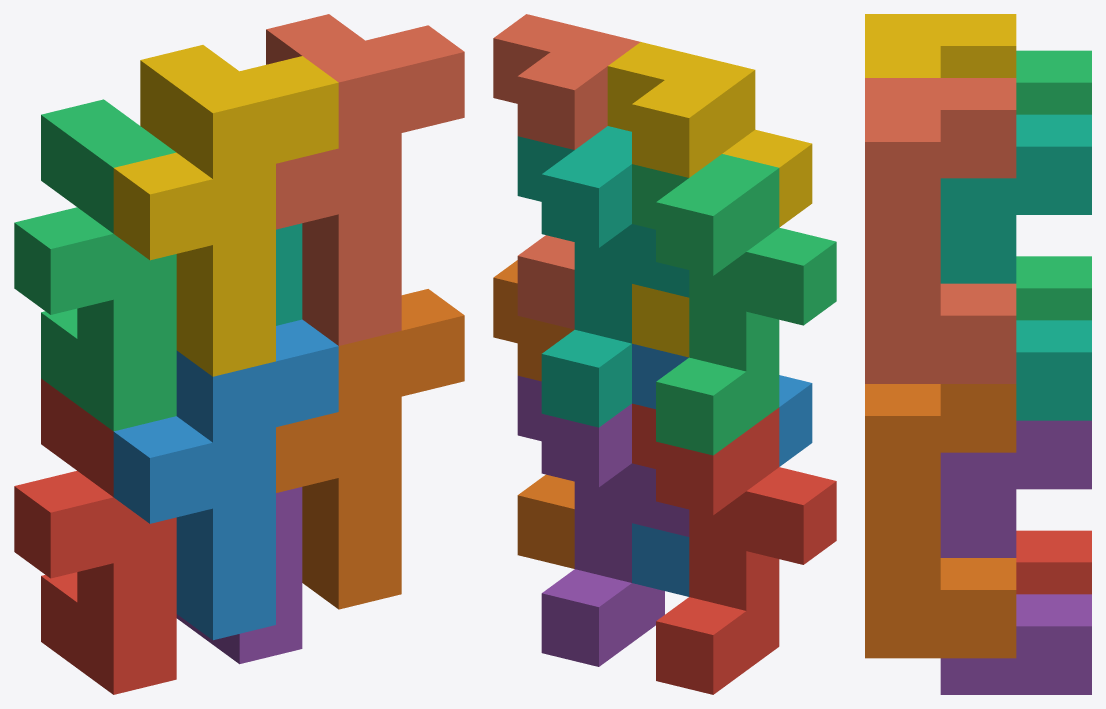
Rendered from tiling.obj.
3 views of the same model, side by side, from view 1: azimuth 30°, elevation 25°; view 2: azimuth 150°, elevation 25°; view 3: azimuth 270°, elevation 25° (orthographic). The views are drawn at different scales.
Parts seen in each view (by area): view 1: copy_1_domain_4, copy_1_domain_2, copy_1_domain_8, copy_1_domain_3, copy_1_domain_1, copy_1_domain_6, copy_1_domain_5, copy_1_domain_7; view 2: copy_1_domain_3, copy_1_domain_1, copy_1_domain_7, copy_1_domain_5, copy_1_domain_4, copy_1_domain_8, copy_1_domain_6, copy_1_domain_2; view 3: copy_1_domain_8, copy_1_domain_6, copy_1_domain_5, copy_1_domain_7, copy_1_domain_3, copy_1_domain_4, copy_1_domain_1.
Boxes of the visible parts, x1=… form: copy_1_domain_4: x1=113, y1=45, x2=338, y2=376; copy_1_domain_2: x1=113, y1=319, x2=338, y2=640; copy_1_domain_8: x1=266, y1=14, x2=464, y2=345; copy_1_domain_3: x1=14, y1=99, x2=176, y2=431; copy_1_domain_1: x1=14, y1=378, x2=176, y2=694; copy_1_domain_6: x1=276, y1=289, x2=464, y2=609; copy_1_domain_5: x1=176, y1=487, x2=302, y2=664; copy_1_domain_7: x1=276, y1=223, x2=302, y2=325; copy_1_domain_3: x1=632, y1=154, x2=836, y2=455; copy_1_domain_1: x1=632, y1=403, x2=836, y2=694; copy_1_domain_7: x1=517, y1=126, x2=689, y2=427; copy_1_domain_5: x1=517, y1=375, x2=689, y2=666; copy_1_domain_4: x1=607, y1=42, x2=812, y2=357; copy_1_domain_8: x1=493, y1=14, x2=640, y2=329; copy_1_domain_6: x1=493, y1=260, x2=574, y2=568; copy_1_domain_2: x1=632, y1=343, x2=812, y2=596; copy_1_domain_8: x1=865, y1=78, x2=1016, y2=383; copy_1_domain_6: x1=865, y1=384, x2=1016, y2=658; copy_1_domain_5: x1=940, y1=420, x2=1091, y2=694; copy_1_domain_7: x1=940, y1=114, x2=1091, y2=420; copy_1_domain_3: x1=1016, y1=50, x2=1091, y2=320; copy_1_domain_4: x1=865, y1=14, x2=1016, y2=77; copy_1_domain_1: x1=1016, y1=530, x2=1091, y2=594.
Bounding box in the file's own units: 6 × 9 × 3.
